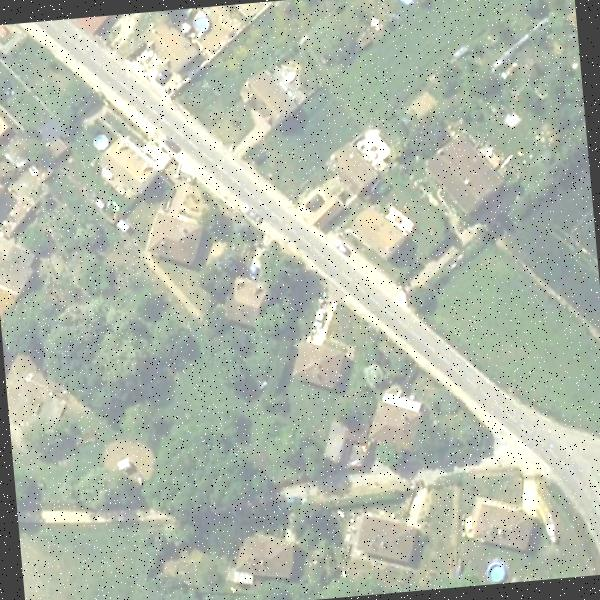Buildings: (426, 146, 507, 216), (287, 332, 354, 397), (468, 496, 537, 552), (144, 204, 206, 266), (240, 66, 298, 125), (140, 19, 204, 71), (104, 139, 166, 187), (328, 144, 374, 195), (241, 539, 295, 581), (354, 210, 402, 257), (362, 522, 415, 561), (302, 186, 338, 236), (374, 402, 416, 444), (231, 276, 264, 322), (189, 3, 257, 25), (0, 265, 32, 296), (71, 16, 110, 30), (0, 113, 9, 145), (0, 151, 4, 201)
